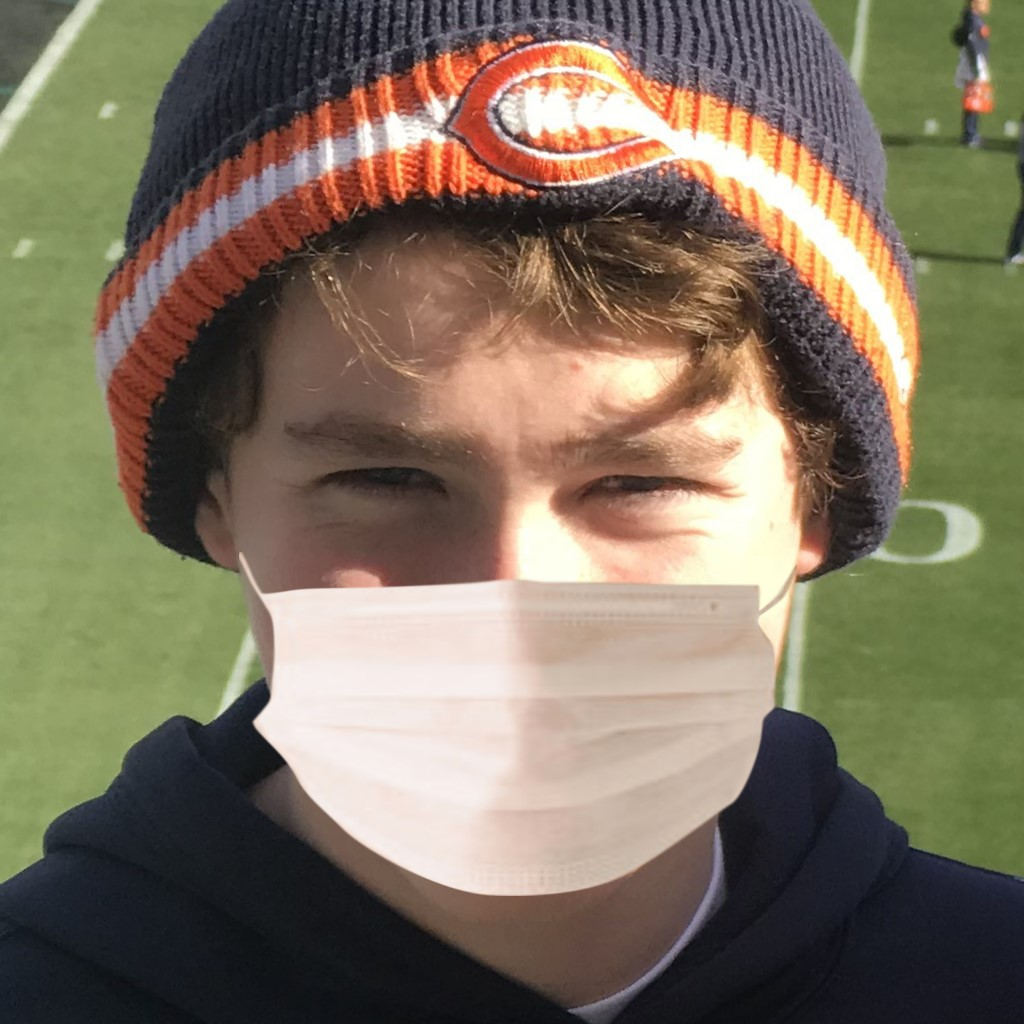con_mascara: (173, 190, 821, 905)
